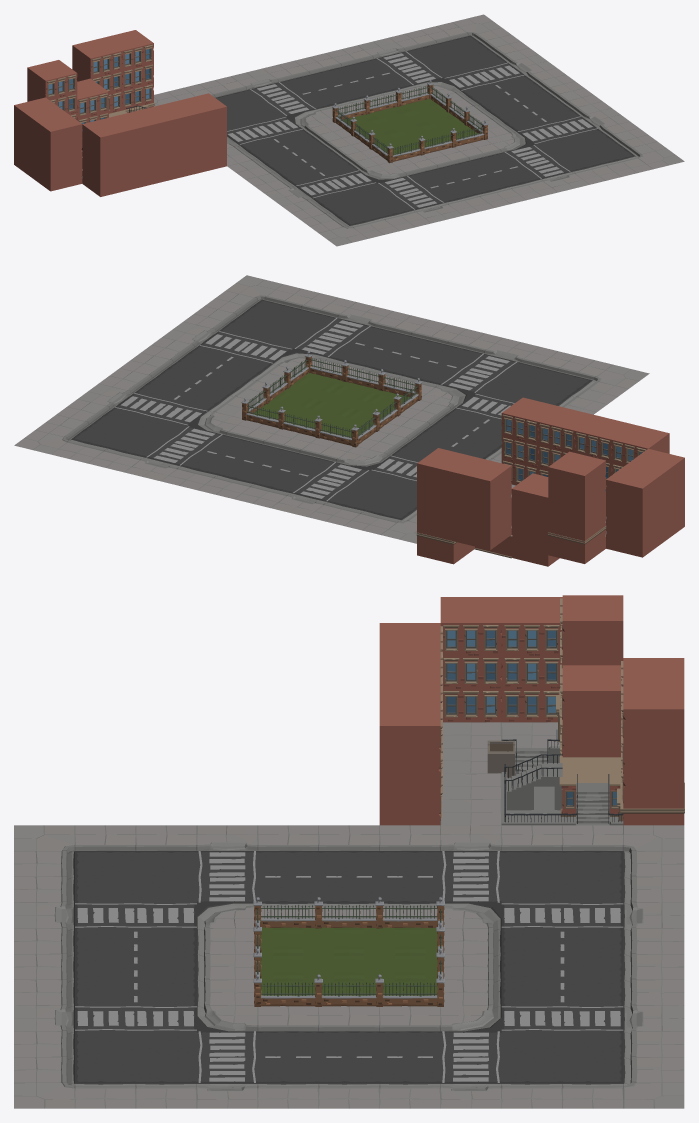
The model's file is level.glb.
3 renders of one model, top to bottom at view 1: azimuth 30°, elevation 25°; view 2: azimuth 150°, elevation 25°; view 3: azimuth 270°, elevation 25°, orthographic. The views are drawn at different scales.
Parts seen in each view (by area): view 1: SM_Bld_Apartment_Stack_01.003, SM_Bld_Apartment_Stack_01.010, SM_Bld_Apartment_Stack_01.002, SM_Bld_Apartment_Stack_01.001, SM_Bld_Apartment_Stack_01.004, SM_Bld_Apartment_Stack_01.009, SM_Bld_Apartment_Stack_01.005, SM_Bld_Apartment_Stack_01.007, SM_Bld_Apartment_Stack_01.008, SM_Bld_Apartment_Stack_01.006, SM_Env_Sidewalk_Straight_01.013, SM_Env_Sidewalk_Straight_01.042 (+107 smaller); view 2: SM_Bld_Apartment_Stack_01.005, SM_Bld_Apartment_Stack_01.008, SM_Bld_Apartment_Stack_01.007, SM_Bld_Apartment_Stack_01.004, SM_Bld_Apartment_Stack_01.006, SM_Bld_Apartment_Stack_01.001, SM_Bld_Apartment_Stack_01.003, SM_Bld_Apartment_Stack_01.002, SM_Bld_Apartment_Stack_01.009, SM_Bld_Apartment_Stack_01.010, SM_Bld_Apartment_Door_01.001, SM_Bld_Apartment_Door_01.003 (+109 smaller); view 3: SM_Bld_Apartment_Stack_01.004, SM_Bld_Apartment_Stack_01.001, SM_Bld_Apartment_Stairs_Corner_01.001, SM_Bld_Apartment_Stack_01.003, SM_Bld_Apartment_Stack_01.008, SM_Bld_Apartment_Stack_01.006, SM_Bld_Apartment_Stack_01.007, SM_Bld_Apartment_Stack_01.002, SM_Bld_Apartment_Stack_01.009, SM_Bld_Apartment_Stack_01.005, SM_Env_Road_01.001, SM_Env_Road_01.005 (+134 smaller).
Part boxes in pixels (x1,y1,x2,y2): SM_Bld_Apartment_Stack_01.003: (32,111,82,191); SM_Bld_Apartment_Stack_01.010: (82,116,131,196); SM_Bld_Apartment_Stack_01.002: (146,101,195,181); SM_Bld_Apartment_Stack_01.001: (177,93,226,173); SM_Bld_Apartment_Stack_01.004: (104,30,153,110); SM_Bld_Apartment_Stack_01.009: (114,108,163,189); SM_Bld_Apartment_Stack_01.005: (72,37,122,113); SM_Bld_Apartment_Stack_01.007: (27,60,77,119); SM_Bld_Apartment_Stack_01.008: (14,97,63,177); SM_Bld_Apartment_Stack_01.006: (76,78,108,138); SM_Env_Sidewalk_Straight_01.013: (526,68,574,89); SM_Env_Sidewalk_Straight_01.042: (421,22,469,43); SM_Bld_Apartment_Stack_01.005: (453,457,511,550); SM_Bld_Apartment_Stack_01.008: (606,464,663,557); SM_Bld_Apartment_Stack_01.007: (548,451,605,544); SM_Bld_Apartment_Stack_01.004: (417,448,474,541); SM_Bld_Apartment_Stack_01.006: (511,473,559,566); SM_Bld_Apartment_Stack_01.001: (501,397,558,485); SM_Bld_Apartment_Stack_01.003: (627,449,684,541); SM_Bld_Apartment_Stack_01.002: (538,406,595,476); SM_Bld_Apartment_Stack_01.009: (575,415,632,491); SM_Bld_Apartment_Stack_01.010: (611,424,669,474); SM_Bld_Apartment_Door_01.001: (547,526,606,563); SM_Bld_Apartment_Door_01.003: (416,532,474,564); SM_Bld_Apartment_Stack_01.004: (621,683,684,808); SM_Bld_Apartment_Stack_01.001: (379,700,442,825); SM_Bld_Apartment_Stairs_Corner_01.001: (501,754,623,825); SM_Bld_Apartment_Stack_01.003: (440,597,501,722); SM_Bld_Apartment_Stack_01.008: (501,597,562,722); SM_Bld_Apartment_Stack_01.006: (560,665,621,757); SM_Bld_Apartment_Stack_01.007: (560,595,623,701); SM_Bld_Apartment_Stack_01.002: (379,674,442,769); SM_Bld_Apartment_Stack_01.009: (379,648,442,736); SM_Bld_Apartment_Stack_01.005: (621,658,684,752); SM_Env_Road_01.001: (257,1031,318,1057); SM_Env_Road_01.005: (318,1031,379,1057).
Bounding box in the file's own units: 80 × 13 × 55.05.
3 materials, 3 textured.
